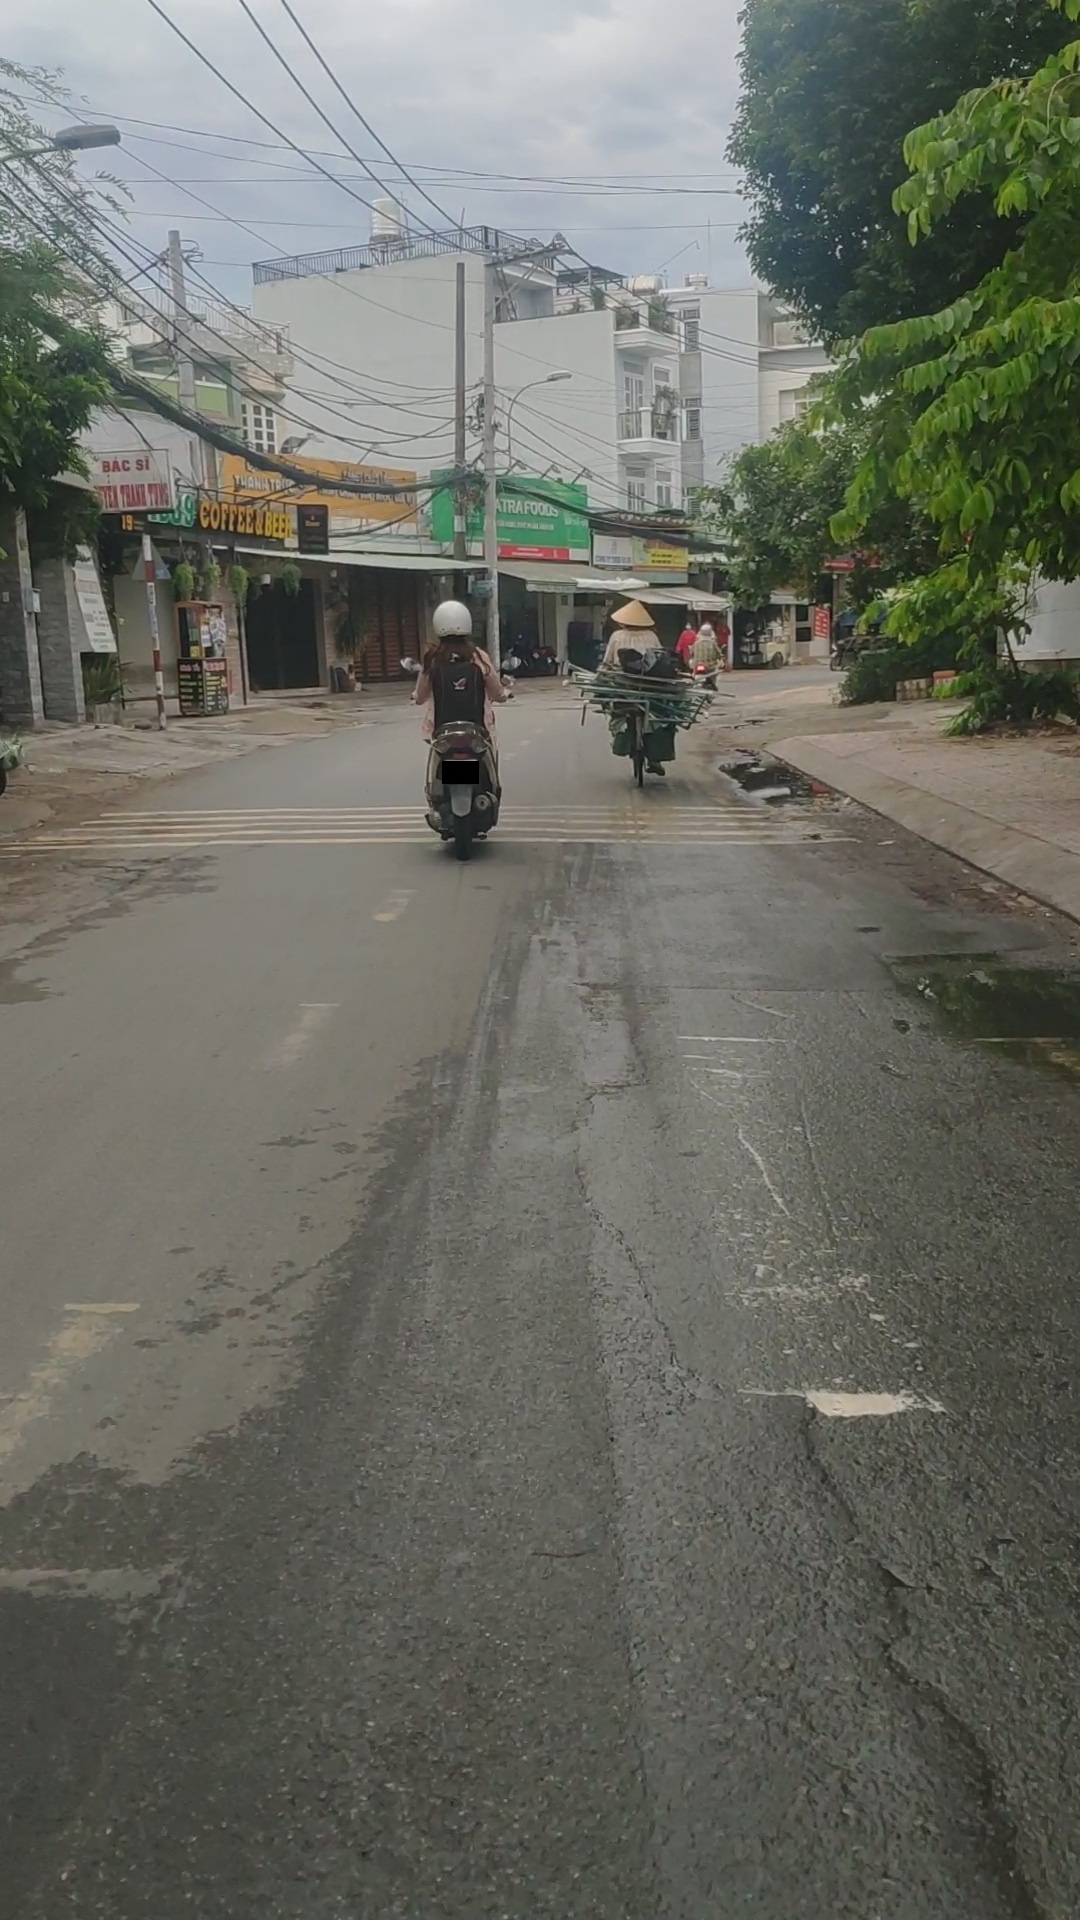hole: (868, 942, 1080, 1056), (713, 753, 836, 816), (713, 715, 781, 732)
